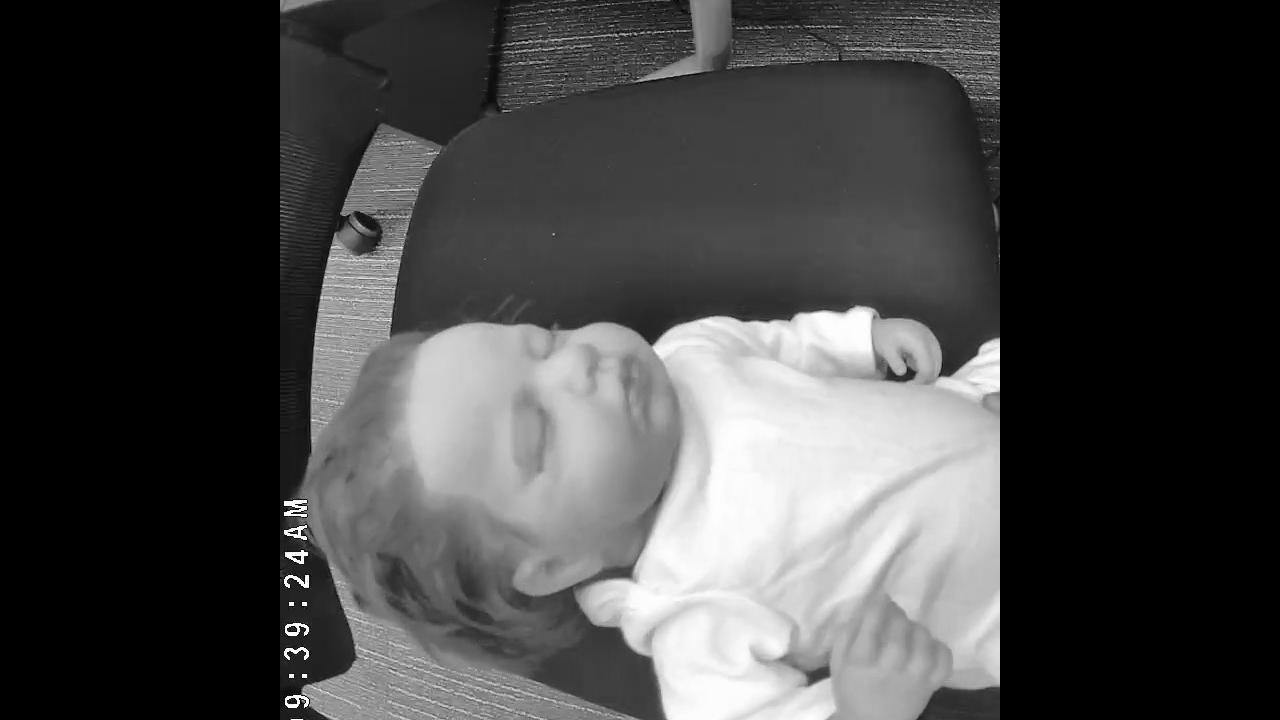hand: (826, 595, 951, 720), (871, 316, 943, 386)
